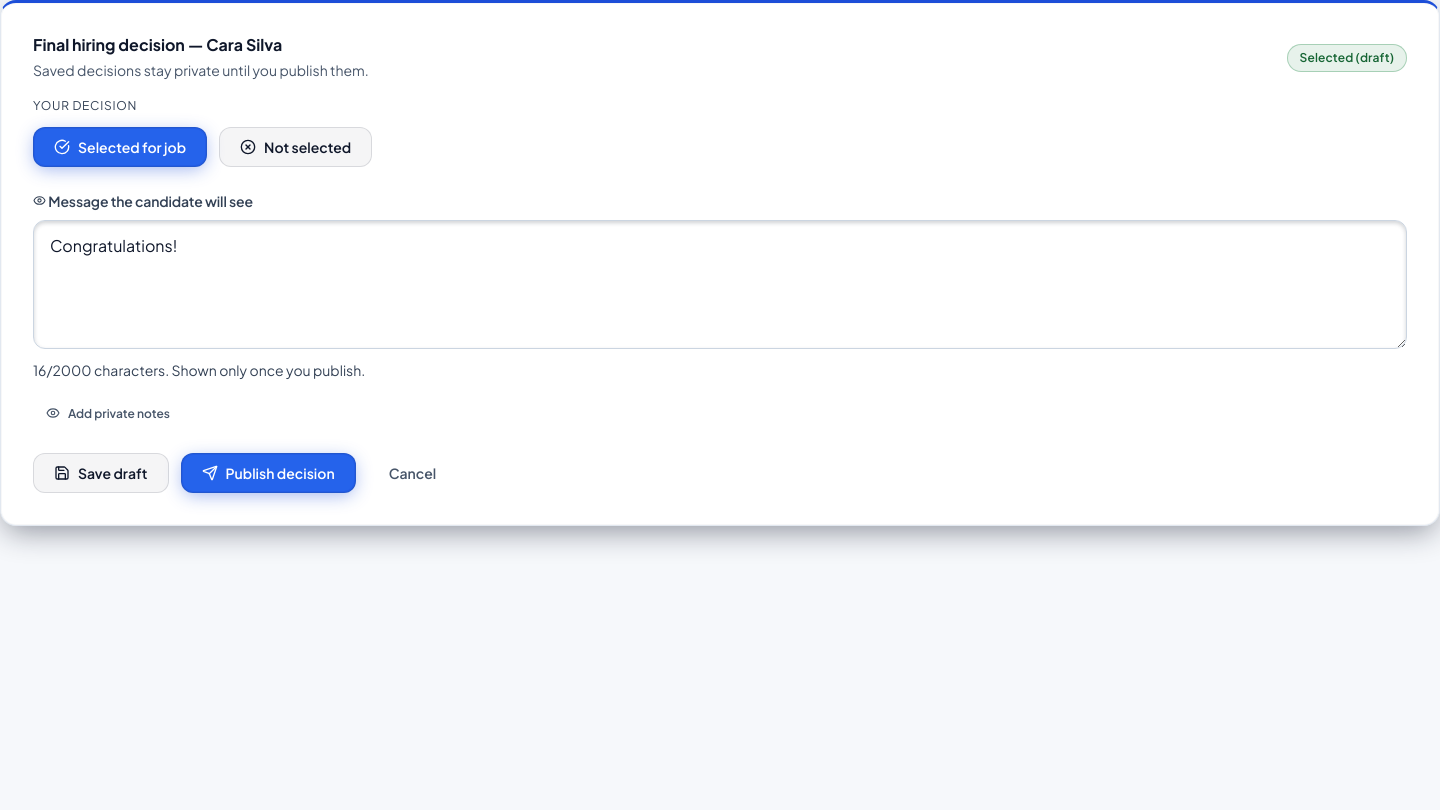
it: confirming publishes and reports that the candidate can see it
Click the button "Publish decision": (268, 473) [180,453,356,493]
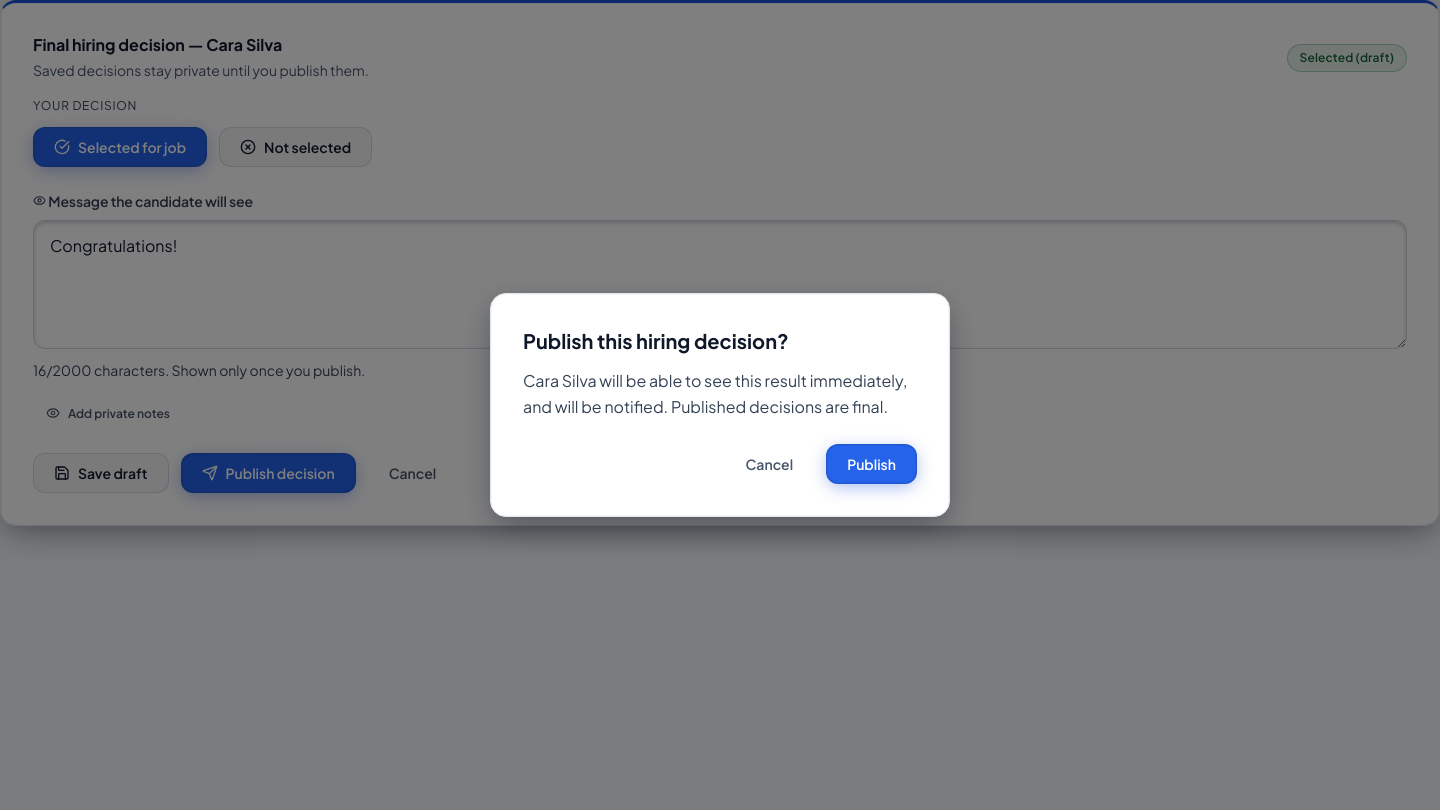
Click the button "Publish": (872, 464) [826,444,917,484]
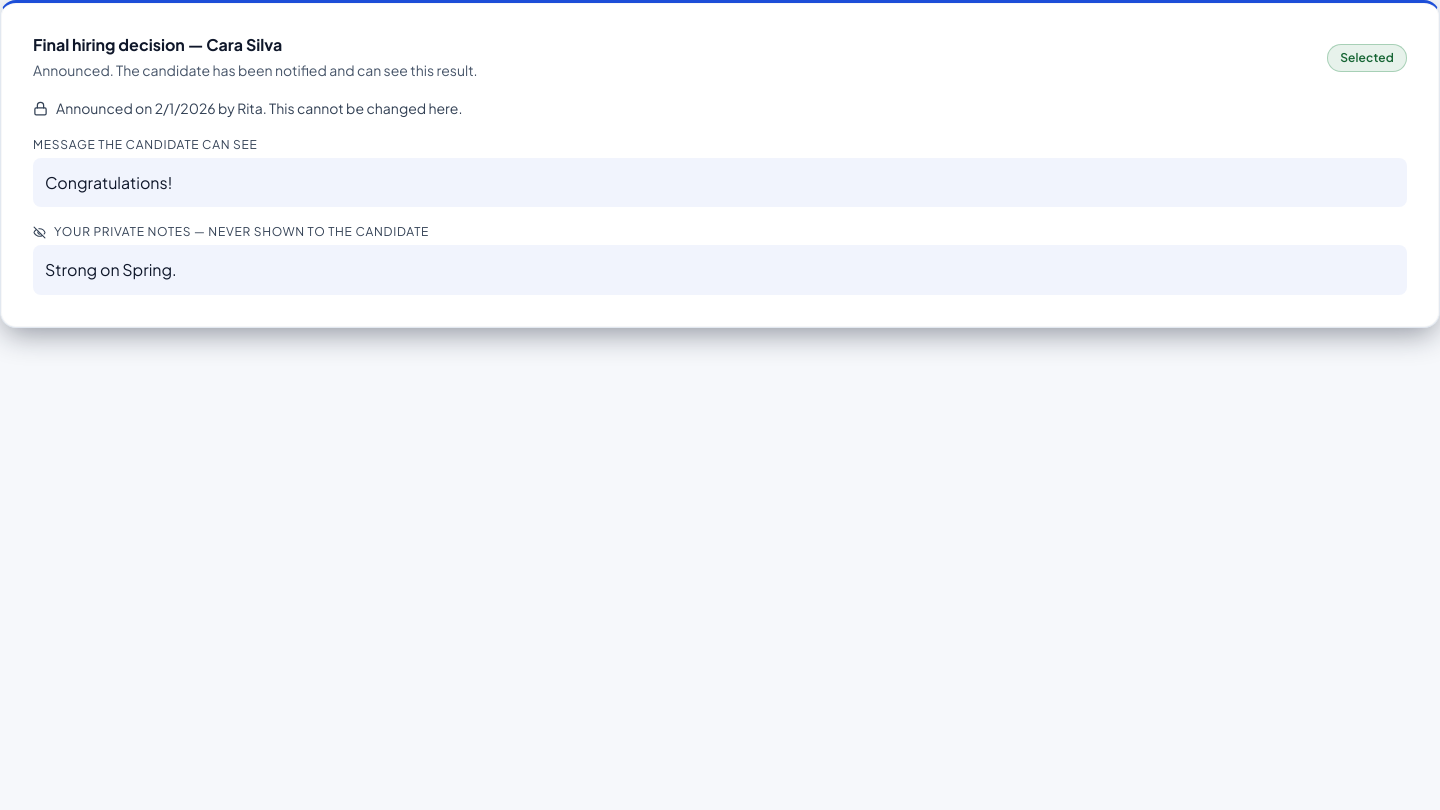
Check: the text "has been notified" is shown, box [33,61,478,79]
Check: the text "cannot be changed here" is shown, box [263,99,462,117]
Check: the dialog is gone
